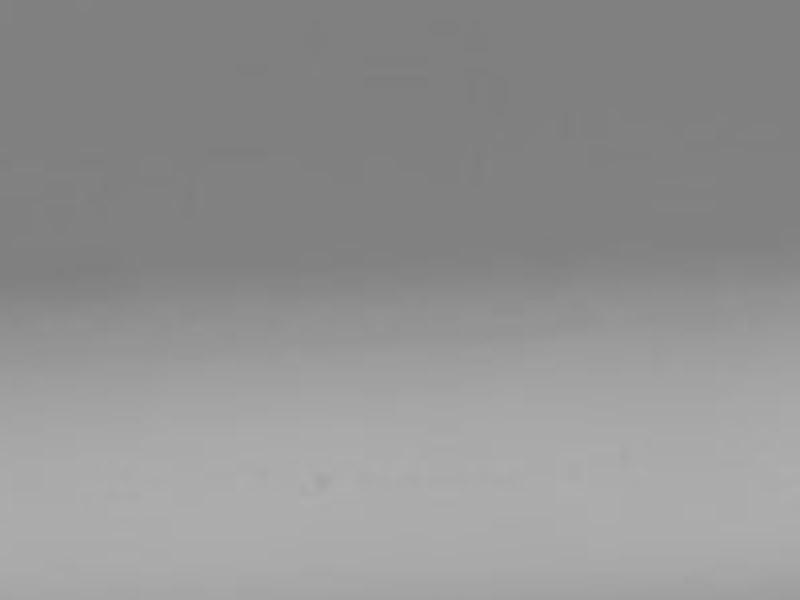defect: (312, 471, 336, 496)
